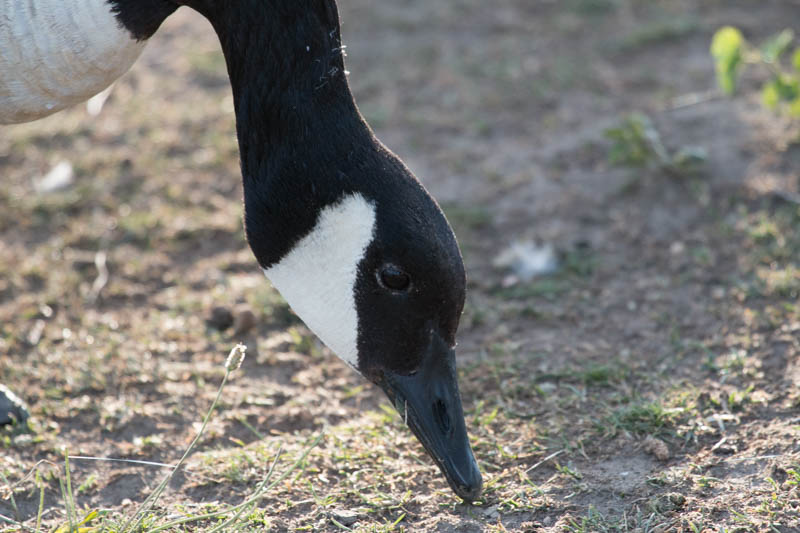goose-head: (234, 122, 485, 501)
